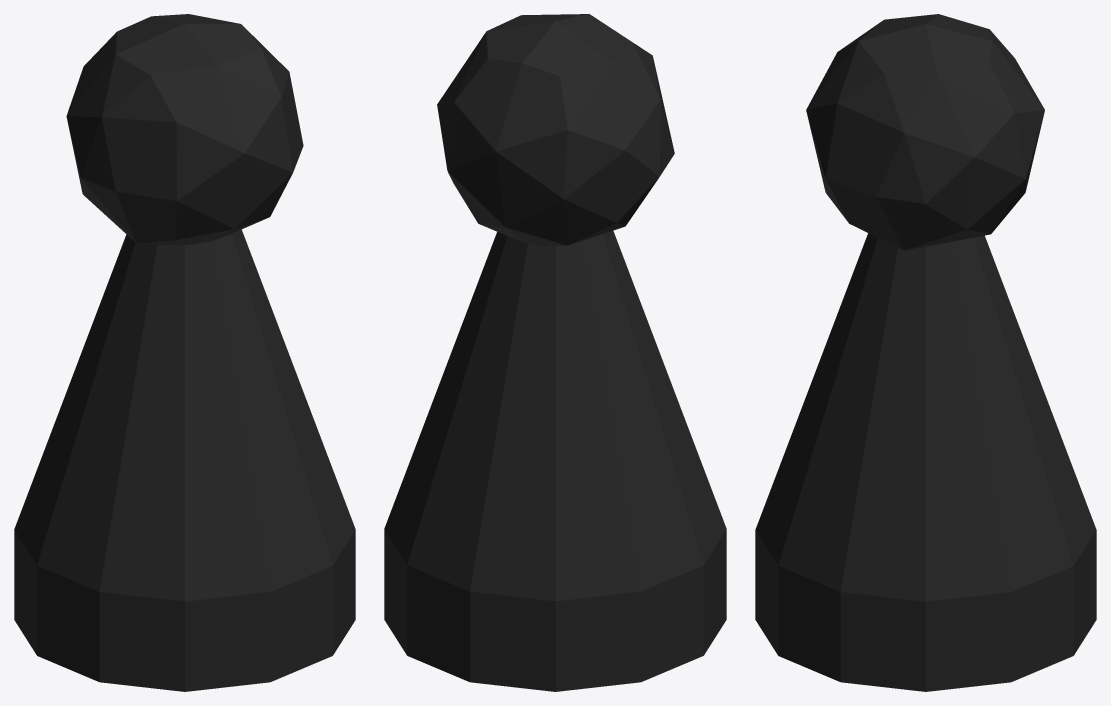
Rendered from chessPawn.glb.
3 renders of one model, left to right at view 1: azimuth 30°, elevation 25°; view 2: azimuth 150°, elevation 25°; view 3: azimuth 270°, elevation 25°, orthographic.
Parts seen in each view (by area): view 1: ChessPawn; view 2: ChessPawn; view 3: ChessPawn.
Boxes of the visible parts, bbox=[...] form: ChessPawn: bbox=[14, 14, 355, 691]; ChessPawn: bbox=[384, 14, 726, 691]; ChessPawn: bbox=[755, 14, 1096, 691].
Bounding box in the file's own units: 0.0375 × 0.0722 × 0.0375.
1 material, 1 textured.
